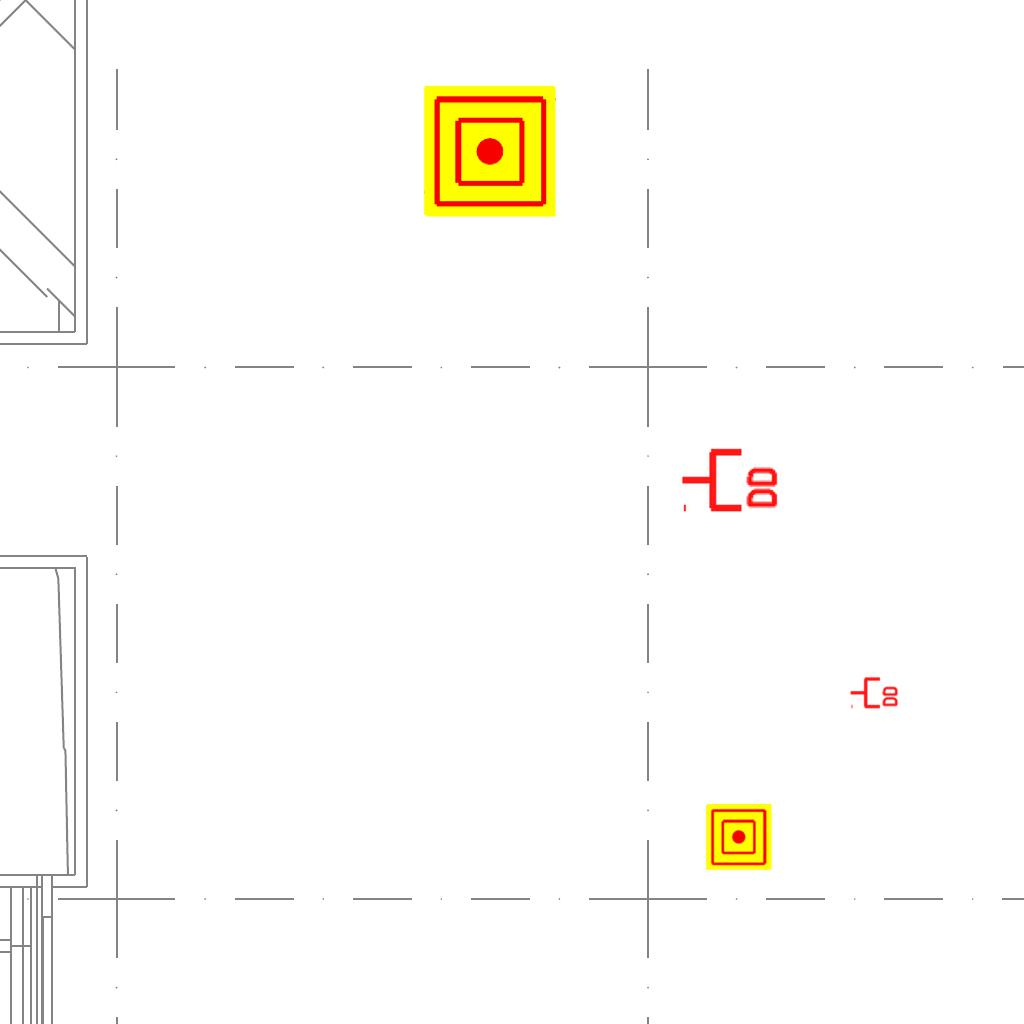Datenanschluss_zweifach: (679, 444, 782, 513), (849, 675, 900, 709)
NAM-Nichtautomatischer_Melder: (424, 85, 556, 217), (706, 804, 772, 870)
